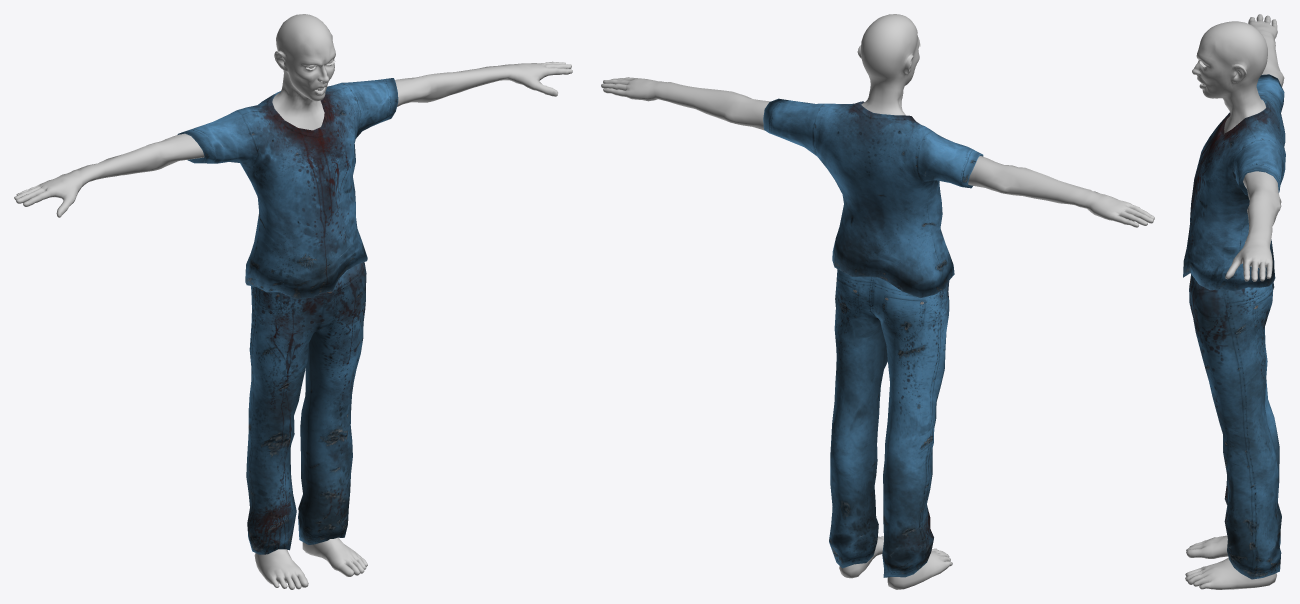
File: Monstruo del hospital.obj
The picture shows the model from 3 angles, left to right: view 1: azimuth 30°, elevation 25°; view 2: azimuth 150°, elevation 25°; view 3: azimuth 270°, elevation 25°; orthographic projection.
Parts seen in each view (by area): view 1: Bottoms, Tops, Body; view 2: Bottoms, Tops, Body; view 3: Bottoms, Body, Tops.
Part boxes in pixels (left/top/right/bottom): Bottoms: left=246, top=262, right=366, bottom=554; Tops: left=177, top=78, right=398, bottom=299; Body: left=14, top=14, right=572, bottom=589; Bottoms: left=829, top=269, right=949, bottom=577; Tops: left=763, top=98, right=983, bottom=297; Body: left=601, top=14, right=1154, bottom=589; Bottoms: left=1189, top=274, right=1281, bottom=579; Body: left=1185, top=14, right=1284, bottom=589; Tops: left=1183, top=74, right=1285, bottom=291.
Size of the model in its own units: 187 by 179 by 30.37.
